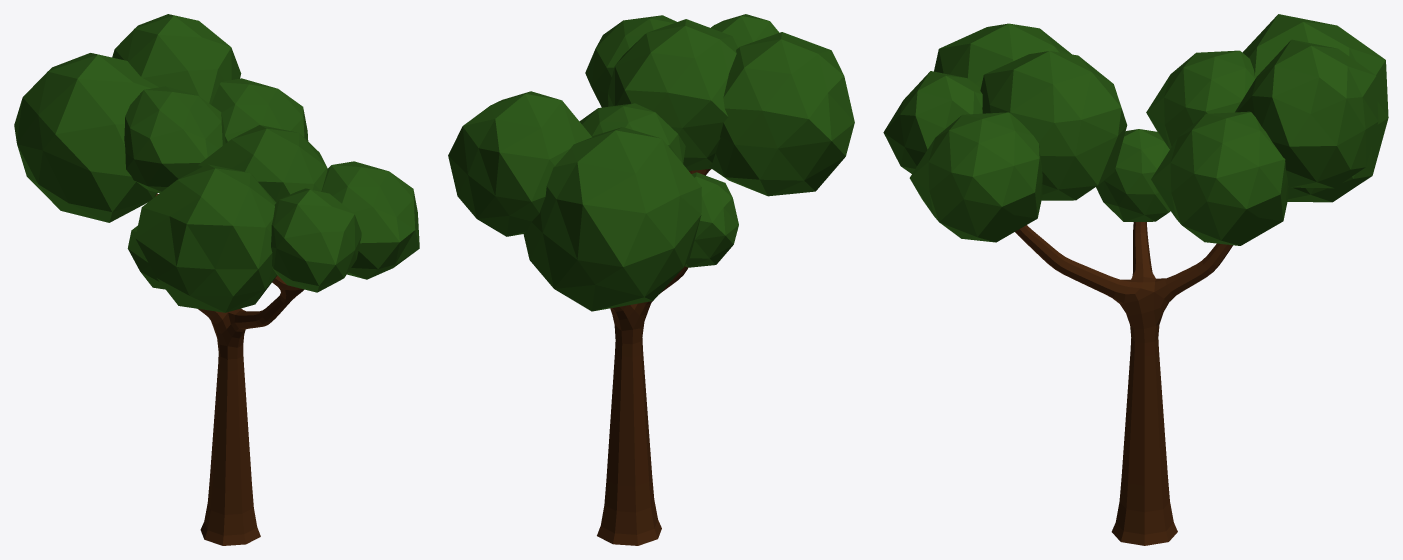
File: tree1.glb
The picture shows the model from 3 angles, left to right: view 1: azimuth 30°, elevation 25°; view 2: azimuth 150°, elevation 25°; view 3: azimuth 270°, elevation 25°; orthographic projection. The views are drawn at different scales.
Parts seen in each view (by area): view 1: Icosphere; view 2: Icosphere; view 3: Icosphere.
Part boxes in pixels (box(x1,y1,x2,y2)): Icosphere: box(14, 14, 419, 545); Icosphere: box(448, 14, 854, 545); Icosphere: box(883, 14, 1388, 545).
Size of the model in its own units: 6.66 by 11.71 by 10.74.
Materials: 2 (2 with a texture image).
